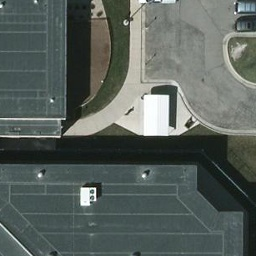car: (235, 15, 256, 31), (232, 1, 256, 13)
